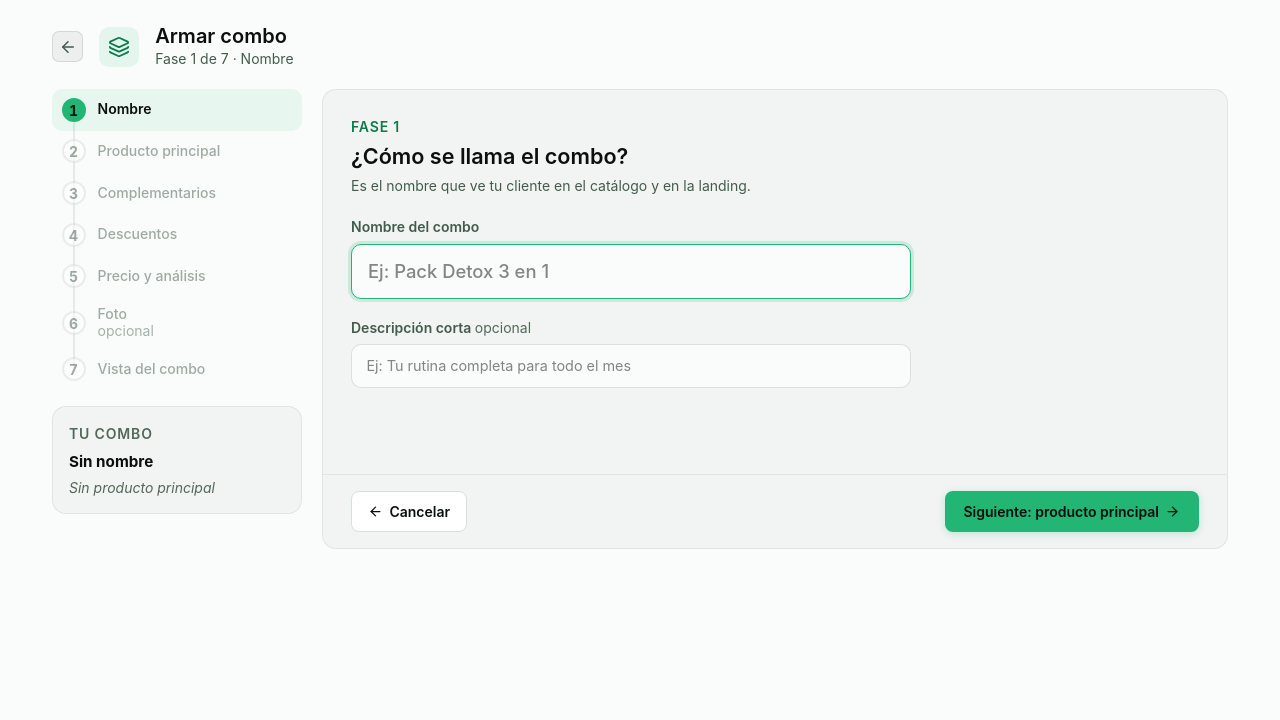
Precios de venta durante el armado del combo › pagina los productos disponibles al sumar complementarios
Type "Combo cocina QA" into the field with placeholder "Ej: Pack Detox 3 en 1" at (631, 271), box [351,244,911,299]
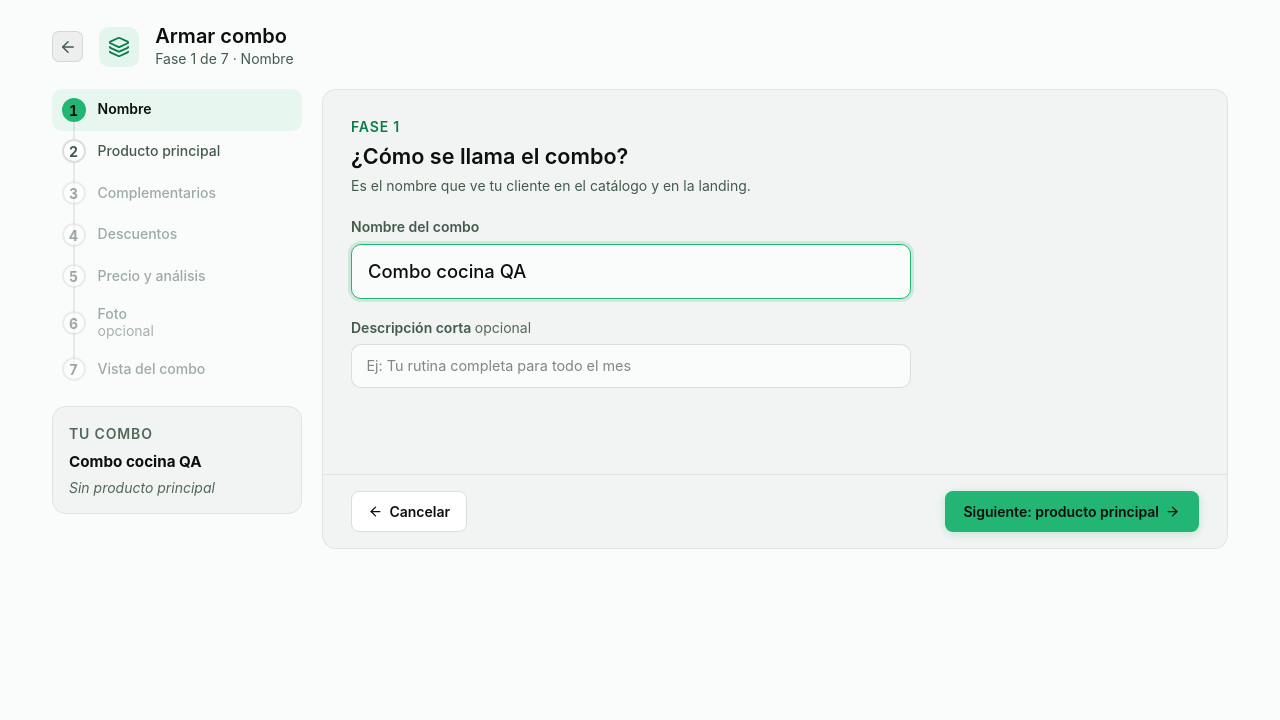
Click the button "Siguiente: producto principal" at (1072, 512), box [945,491,1199,532]
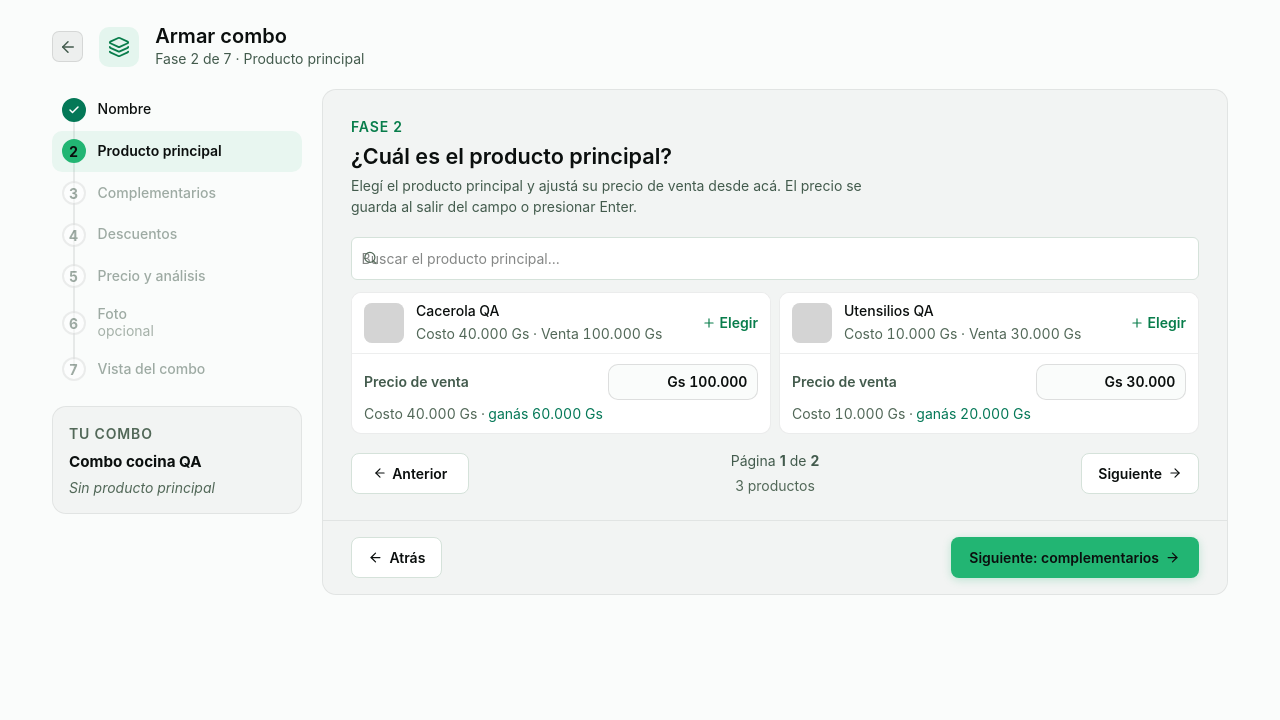
Click the button "Cacerola QA Costo 40.000 Gs · Venta 100.000 Gs Elegir" at (561, 323), box [352,293,770,353]
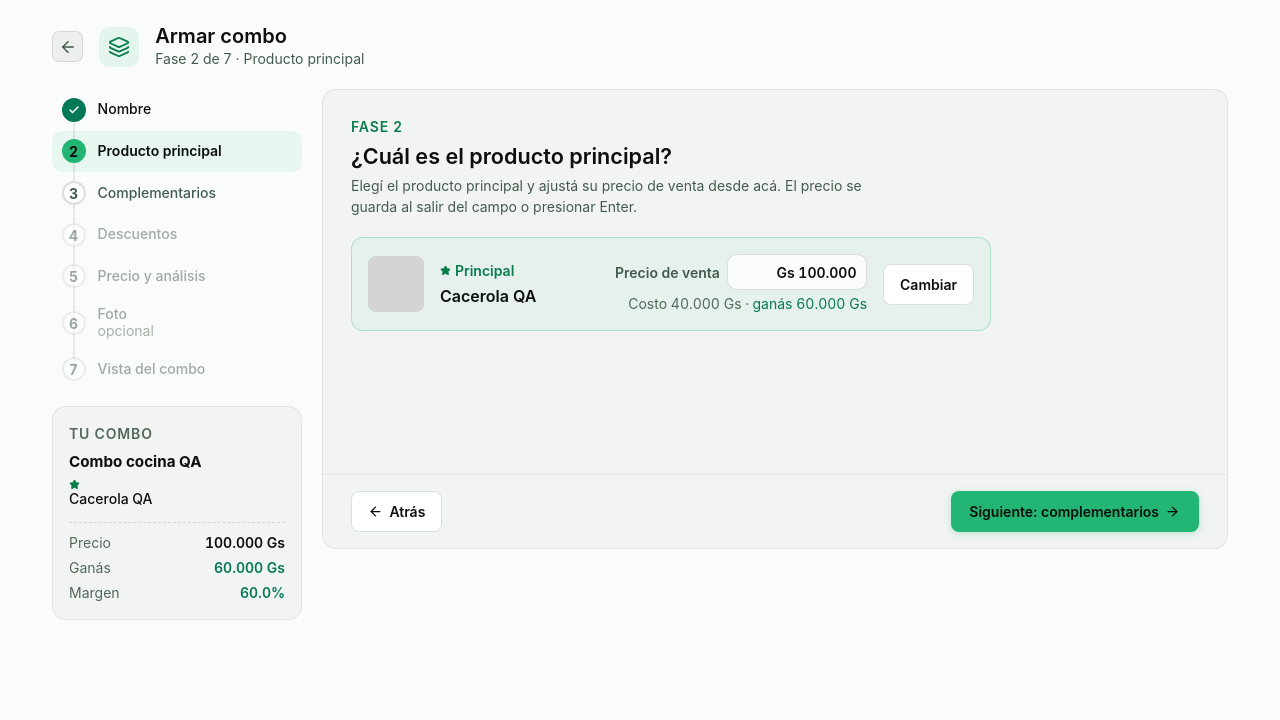
Click the button "Siguiente: complementarios" at (1075, 512), box [951,491,1199,532]
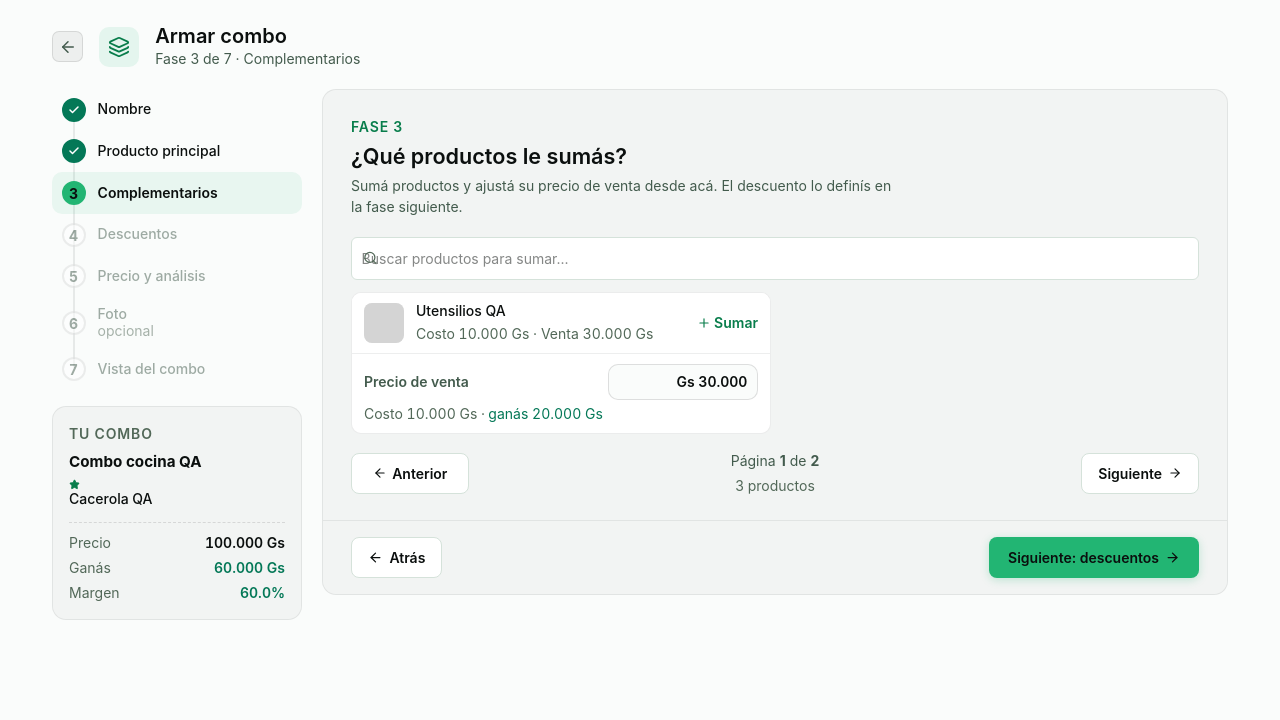
Expected: the field named "Precio de venta de Utensilios QA" is shown, [608,364,758,400]
Click the button "Siguiente" at (1140, 474), box [1081,453,1199,494]
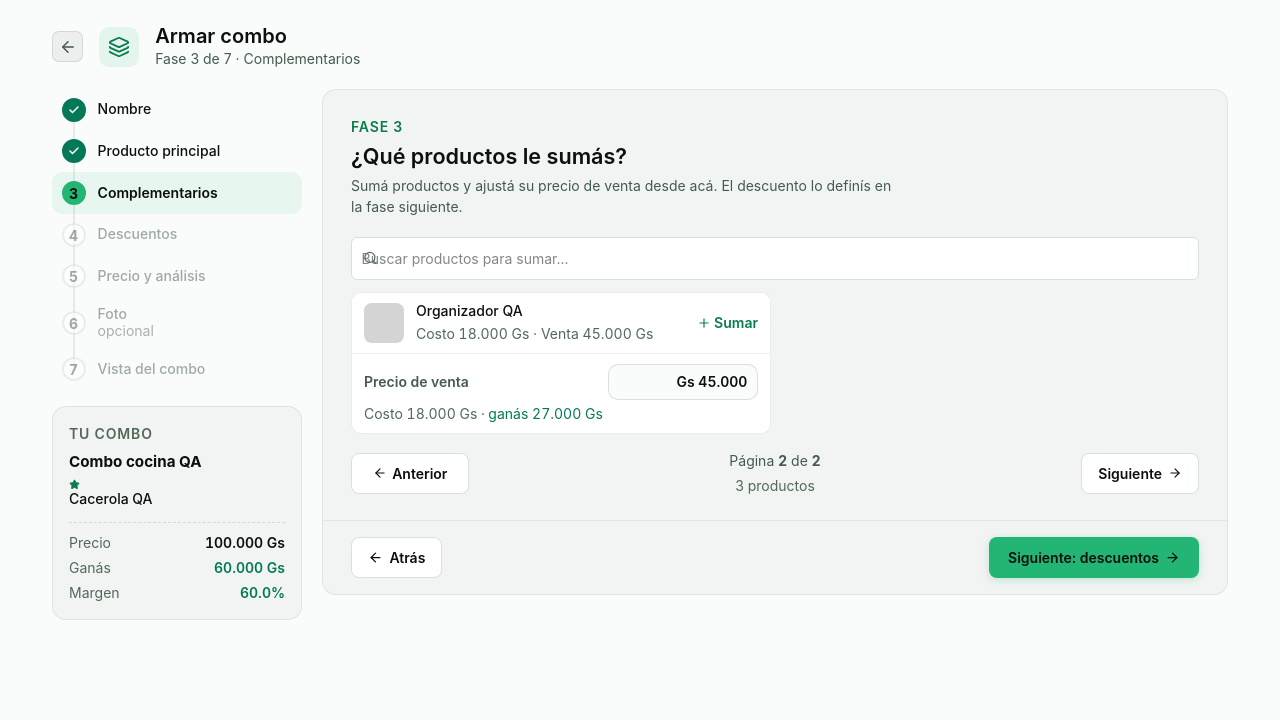
Expected: the field named "Precio de venta de Organizador QA" is shown, [608,364,758,400]
Expected: the text "Página 2 de 2 3 productos" is shown, [729,452,821,494]
